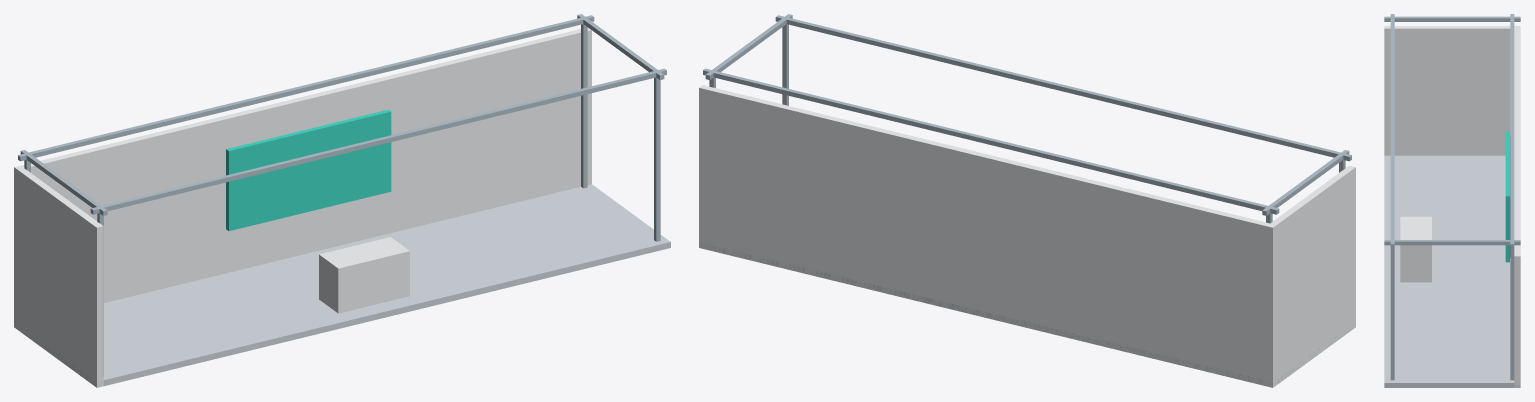
3 renders of one model, left to right at view 1: azimuth 30°, elevation 25°; view 2: azimuth 150°, elevation 25°; view 3: azimuth 270°, elevation 25°, orthographic. The views are drawn at different scales.
Visible parts, largest first — view 1: Exhibition Booth Concept; view 2: Exhibition Booth Concept; view 3: Exhibition Booth Concept.
Part boxes in pixels (bbox=[...]): Exhibition Booth Concept: bbox=[14, 14, 670, 387]; Exhibition Booth Concept: bbox=[699, 14, 1355, 387]; Exhibition Booth Concept: bbox=[1384, 14, 1520, 387].
Size of the model in its own units: 12 by 3.49 by 3.
